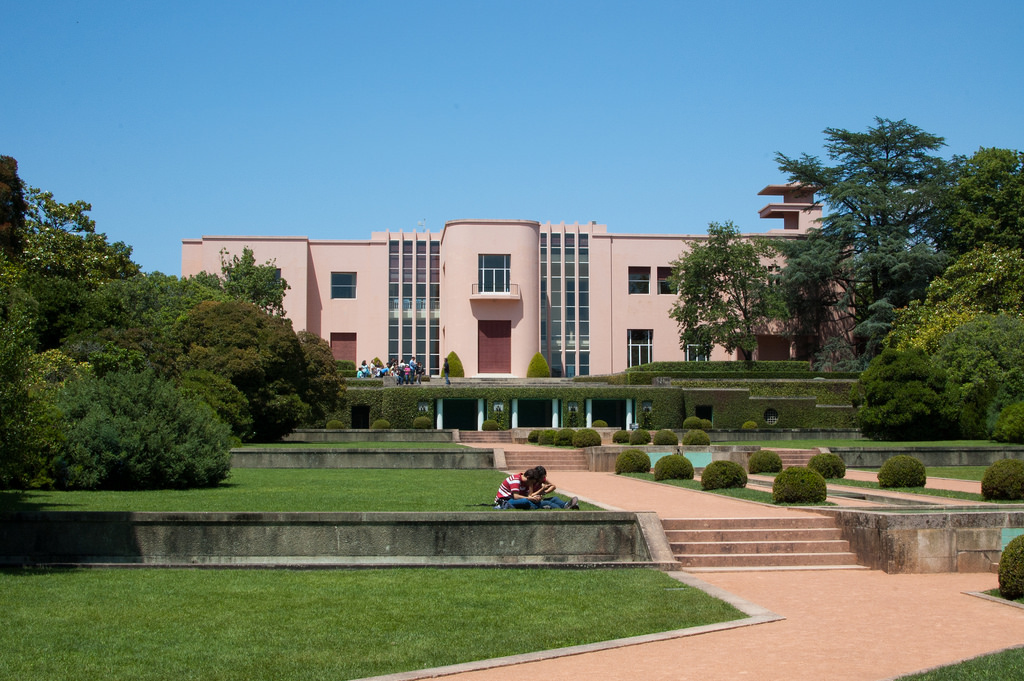serralves: (176, 178, 858, 384)
